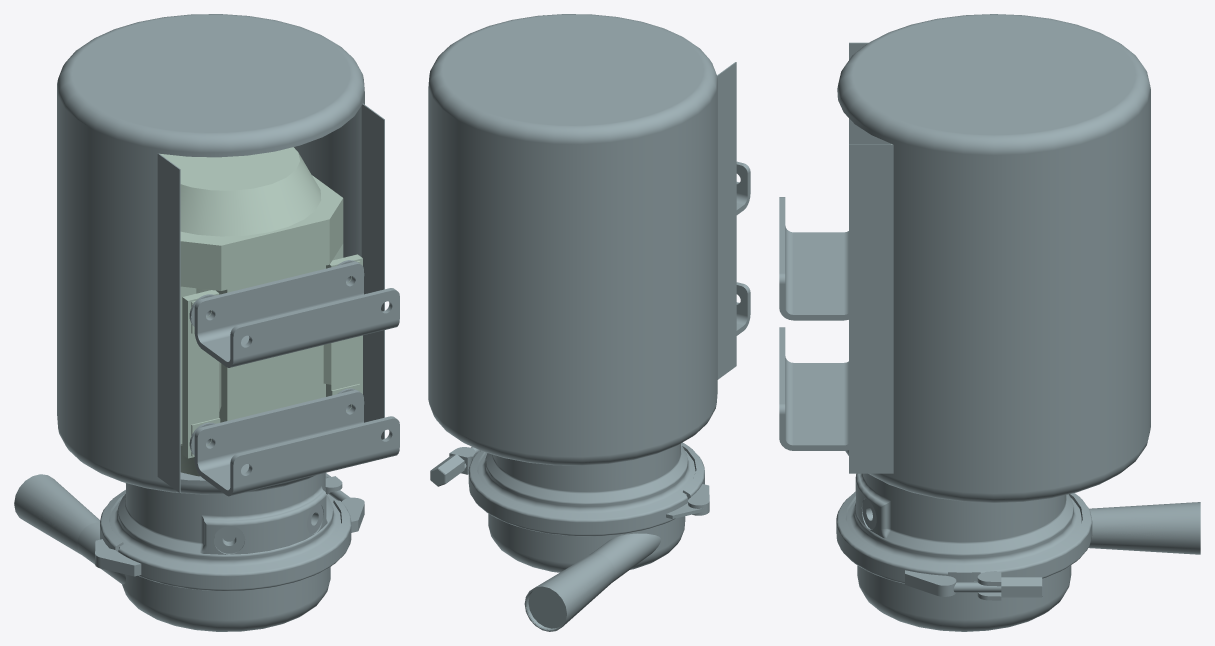
3 views of the same model, side by side, from view 1: azimuth 30°, elevation 25°; view 2: azimuth 150°, elevation 25°; view 3: azimuth 270°, elevation 25° (orthographic). The views are drawn at different scales.
Parts seen in each view (by area): view 1: stitch_result_stitch all, 离心泵63-51; view 2: stitch_result_stitch all, 离心泵63-51; view 3: stitch_result_stitch all, 离心泵63-51.
Boxes of the visible parts, box(x1,y1,x2,y2) form: stitch_result_stitch all: box(14, 14, 399, 631); 离心泵63-51: box(14, 14, 390, 631); stitch_result_stitch all: box(428, 14, 750, 631); 离心泵63-51: box(428, 14, 742, 630); stitch_result_stitch all: box(779, 14, 1200, 631); 离心泵63-51: box(779, 14, 1200, 631).
Size of the model in its own units: 12.01 by 22.44 by 16.14.
